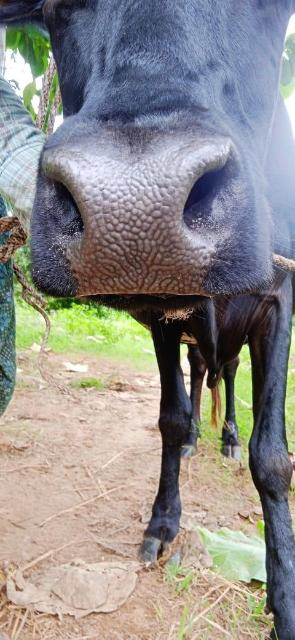Muzzle: (59, 154, 213, 298)
